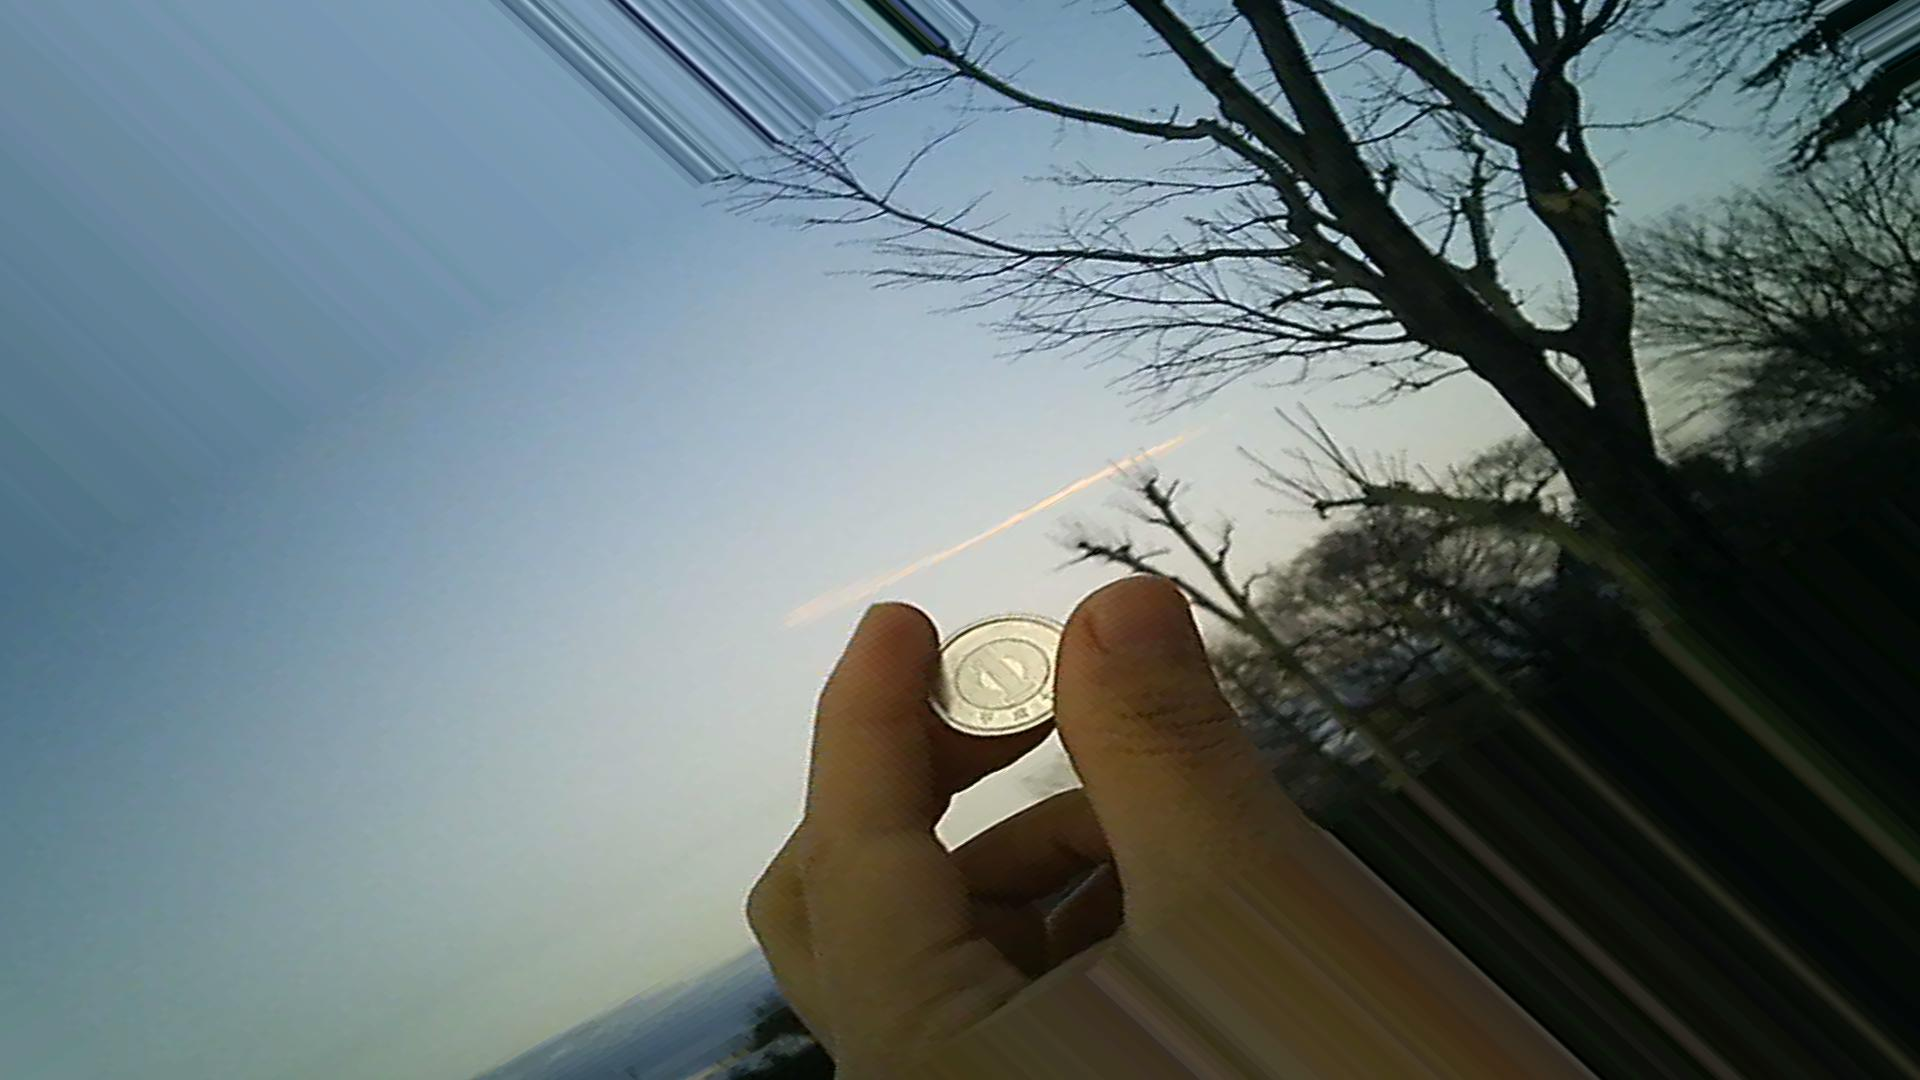1 Yen: (915, 615, 1088, 738)
